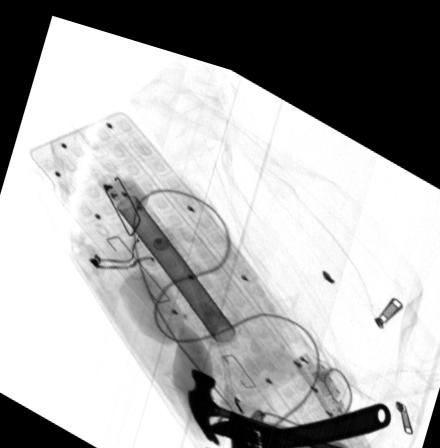Hammer: (187, 354, 354, 445)
Wrench: (203, 380, 392, 448)
